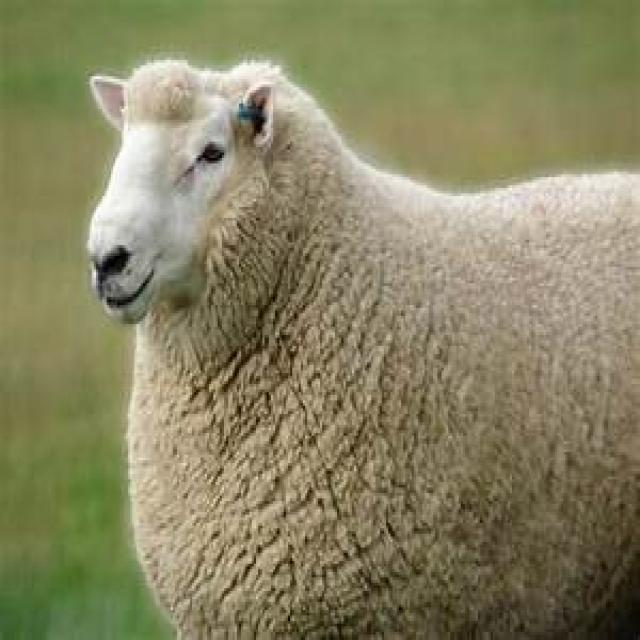animal: (85, 55, 638, 638)
